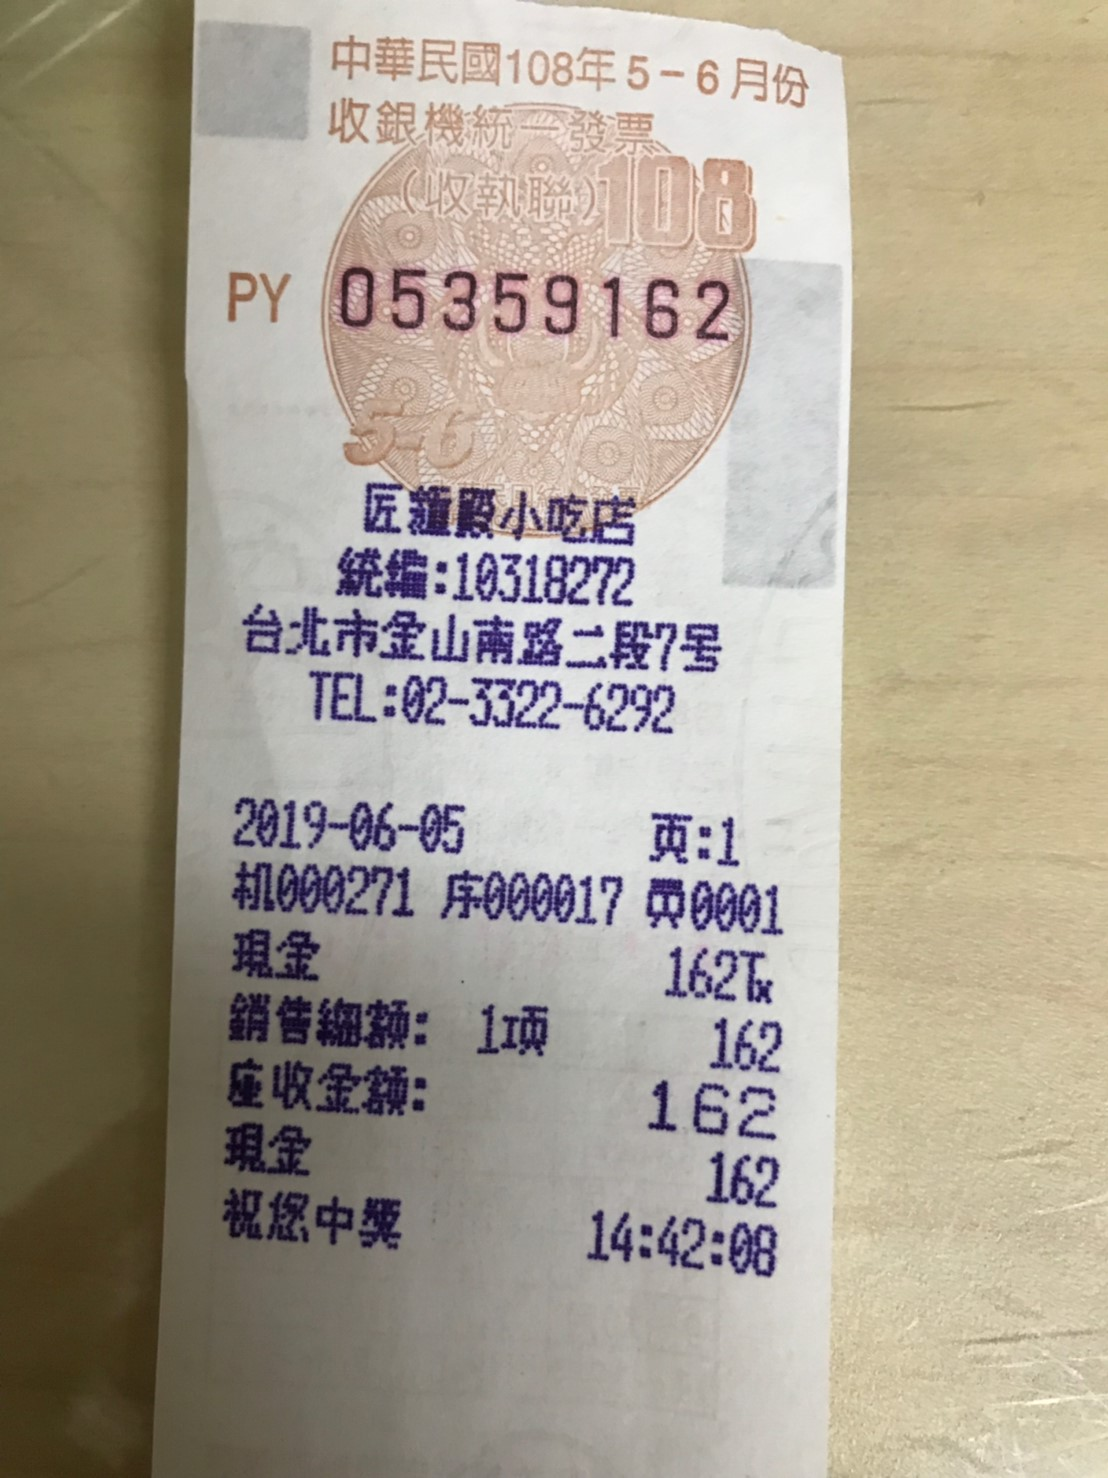Date_Old: (504, 40, 811, 108)
Number_Old: (335, 254, 736, 353)
